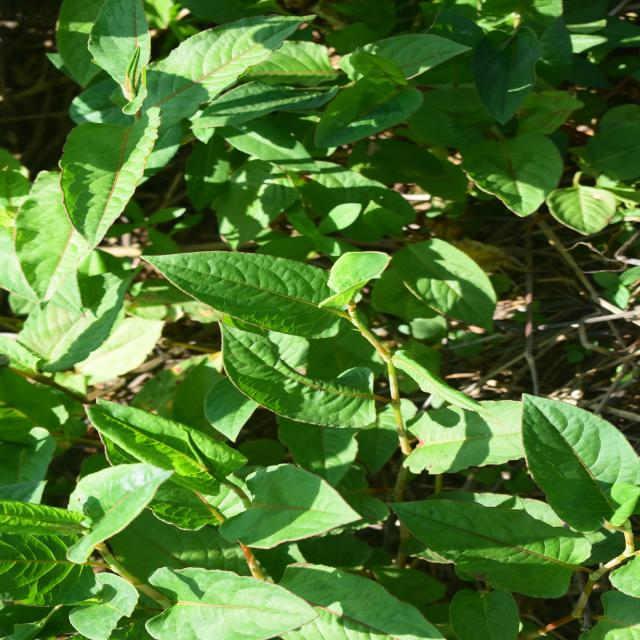Chinese_knotweed: (187, 166, 424, 489), (0, 12, 230, 320)
